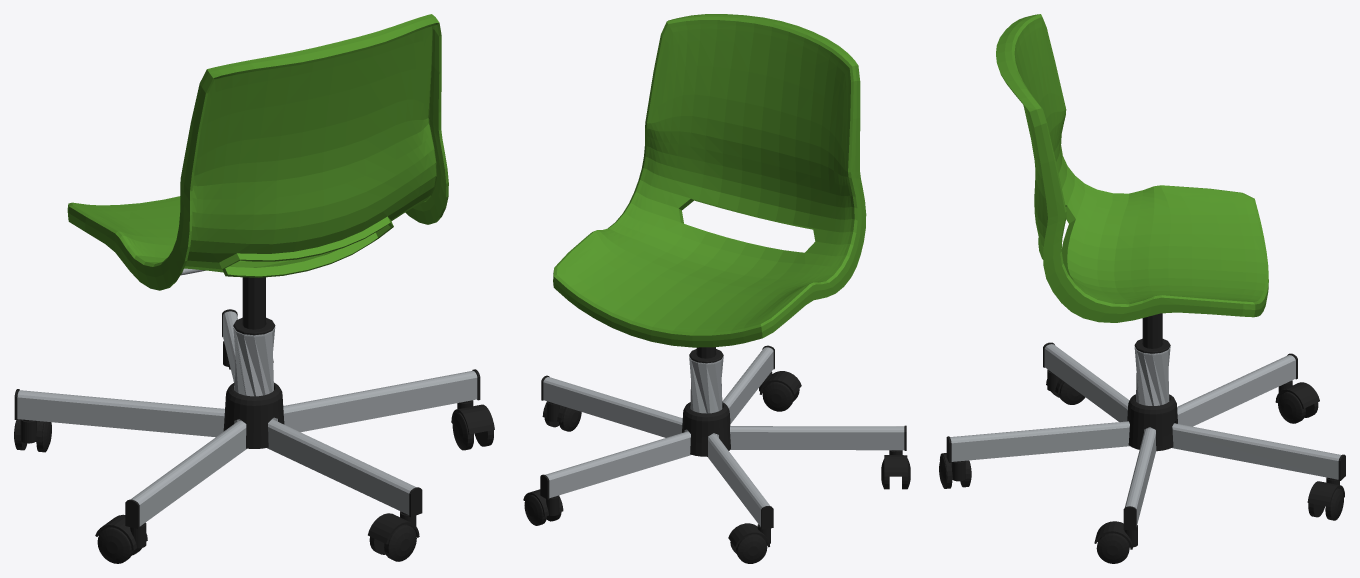
3 views of the same model, side by side, from view 1: azimuth 30°, elevation 25°; view 2: azimuth 150°, elevation 25°; view 3: azimuth 270°, elevation 25° (orthographic). The views are drawn at different scales.
Visible parts, largest first — view 1: Mesh2 Group2 SNILLE_IKEA1 Model, Mesh8 Group6 SNILLE_IKEA1 Model, Mesh7 Group5 SNILLE_IKEA1 Model, Mesh1 Group1 SNILLE_IKEA1 Model, Mesh3 Group3 SNILLE_IKEA1 Model, Mesh11 ROULETTE1 SNILLE_IKEA1 Model, Mesh12 ROULETTE2 SNILLE_IKEA1 Model, Mesh18 ROULETTE4 SNILLE_IKEA1 Model, Mesh20 ROULETTE4 SNILLE_IKEA1 Model, Mesh9 ROULETTE1 SNILLE_IKEA1 Model, Mesh21 ROULETTE5 SNILLE_IKEA1 Model; view 2: Mesh2 Group2 SNILLE_IKEA1 Model, Mesh8 Group6 SNILLE_IKEA1 Model, Mesh1 Group1 SNILLE_IKEA1 Model, Mesh7 Group5 SNILLE_IKEA1 Model, Mesh19 ROULETTE4 SNILLE_IKEA1 Model, Mesh23 ROULETTE5 SNILLE_IKEA1 Model, Mesh9 ROULETTE1 SNILLE_IKEA1 Model, Mesh21 ROULETTE5 SNILLE_IKEA1 Model, Mesh18 ROULETTE4 SNILLE_IKEA1 Model, Mesh15 ROULETTE3 SNILLE_IKEA1 Model, Mesh17 ROULETTE3 SNILLE_IKEA1 Model; view 3: Mesh2 Group2 SNILLE_IKEA1 Model, Mesh8 Group6 SNILLE_IKEA1 Model, Mesh1 Group1 SNILLE_IKEA1 Model, Mesh7 Group5 SNILLE_IKEA1 Model, Mesh3 Group3 SNILLE_IKEA1 Model, Mesh14 ROULETTE2 SNILLE_IKEA1 Model, Mesh15 ROULETTE3 SNILLE_IKEA1 Model, Mesh21 ROULETTE5 SNILLE_IKEA1 Model, Mesh22 ROULETTE5 SNILLE_IKEA1 Model, Mesh12 ROULETTE2 SNILLE_IKEA1 Model, Mesh18 ROULETTE4 SNILLE_IKEA1 Model.
Boxes of the visible parts, x1,y1,x2,y2 form: Mesh2 Group2 SNILLE_IKEA1 Model: [67, 14, 448, 290]; Mesh8 Group6 SNILLE_IKEA1 Model: [14, 309, 480, 528]; Mesh7 Group5 SNILLE_IKEA1 Model: [233, 327, 275, 396]; Mesh1 Group1 SNILLE_IKEA1 Model: [223, 382, 284, 448]; Mesh3 Group3 SNILLE_IKEA1 Model: [233, 277, 275, 335]; Mesh11 ROULETTE1 SNILLE_IKEA1 Model: [97, 527, 133, 563]; Mesh12 ROULETTE2 SNILLE_IKEA1 Model: [451, 400, 494, 434]; Mesh18 ROULETTE4 SNILLE_IKEA1 Model: [368, 511, 419, 544]; Mesh20 ROULETTE4 SNILLE_IKEA1 Model: [384, 524, 416, 561]; Mesh9 ROULETTE1 SNILLE_IKEA1 Model: [95, 514, 147, 550]; Mesh21 ROULETTE5 SNILLE_IKEA1 Model: [14, 419, 44, 443]; Mesh2 Group2 SNILLE_IKEA1 Model: [553, 14, 866, 347]; Mesh8 Group6 SNILLE_IKEA1 Model: [540, 345, 906, 529]; Mesh1 Group1 SNILLE_IKEA1 Model: [682, 402, 730, 456]; Mesh7 Group5 SNILLE_IKEA1 Model: [689, 356, 723, 413]; Mesh19 ROULETTE4 SNILLE_IKEA1 Model: [762, 382, 793, 411]; Mesh23 ROULETTE5 SNILLE_IKEA1 Model: [736, 534, 767, 563]; Mesh9 ROULETTE1 SNILLE_IKEA1 Model: [884, 450, 907, 476]; Mesh21 ROULETTE5 SNILLE_IKEA1 Model: [728, 523, 770, 547]; Mesh18 ROULETTE4 SNILLE_IKEA1 Model: [759, 371, 801, 395]; Mesh15 ROULETTE3 SNILLE_IKEA1 Model: [523, 489, 563, 516]; Mesh17 ROULETTE3 SNILLE_IKEA1 Model: [524, 495, 546, 525]; Mesh2 Group2 SNILLE_IKEA1 Model: [996, 14, 1268, 322]; Mesh8 Group6 SNILLE_IKEA1 Model: [946, 342, 1345, 530]; Mesh1 Group1 SNILLE_IKEA1 Model: [1127, 394, 1177, 451]; Mesh7 Group5 SNILLE_IKEA1 Model: [1134, 347, 1170, 405]; Mesh3 Group3 SNILLE_IKEA1 Model: [1134, 313, 1170, 353]; Mesh14 ROULETTE2 SNILLE_IKEA1 Model: [1096, 533, 1129, 563]; Mesh15 ROULETTE3 SNILLE_IKEA1 Model: [1307, 477, 1344, 506]; Mesh21 ROULETTE5 SNILLE_IKEA1 Model: [1275, 380, 1319, 408]; Mesh22 ROULETTE5 SNILLE_IKEA1 Model: [1278, 391, 1305, 423]; Mesh12 ROULETTE2 SNILLE_IKEA1 Model: [1094, 521, 1137, 549]; Mesh18 ROULETTE4 SNILLE_IKEA1 Model: [940, 453, 970, 481].
Size of the model in its own units: 0.5947 by 0.6798 by 0.5889.
